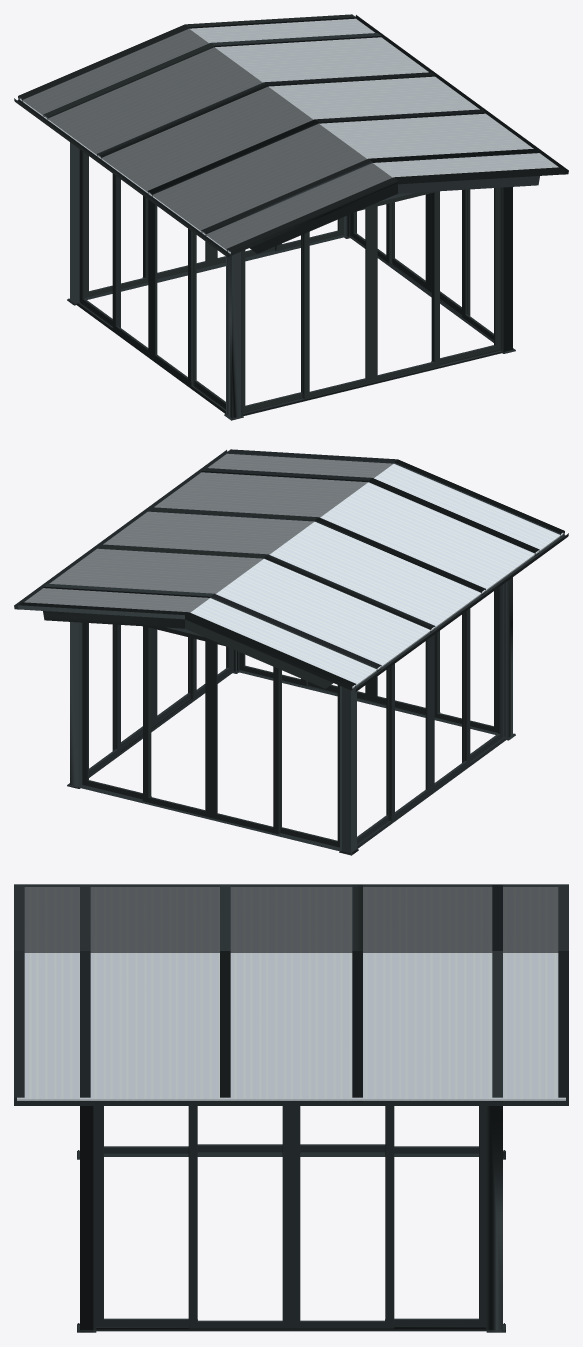
The picture shows the model from 3 angles, top to bottom: view 1: azimuth 30°, elevation 25°; view 2: azimuth 150°, elevation 25°; view 3: azimuth 270°, elevation 25°; orthographic projection. The views are drawn at different scales.
Visible parts, largest first — view 1: priximbattable_net_abris_de_jardin_640010_jacuzzi_poly, folha2_3, folha3_3, folha3_4, folha4_3, folha2_4, folha1_4, folha1_3, folha4, folha1_2, folha2_2, folha4_4 (+3 smaller); view 2: priximbattable_net_abris_de_jardin_640010_jacuzzi_poly, folha3, folha2, folha2_4, folha1, folha3_4, folha4_4, folha1_3, folha4, folha3_2, folha4_2, folha1_4 (+3 smaller); view 3: priximbattable_net_abris_de_jardin_640010_jacuzzi_poly, folha2_2, folha3_2, folha1_2, folha4_2, folha2_4, folha3_4, folha1_4, folha4_4.
Boxes of the visible parts, x1,y1,x2,y2 form: priximbattable_net_abris_de_jardin_640010_jacuzzi_poly: (14,14,568,420); folha2_3: (302,205,372,399); folha3_3: (372,191,440,382); folha3_4: (151,202,193,386); folha4_3: (431,187,499,364); folha2_4: (112,173,151,357); folha1_4: (79,149,120,327); folha1_3: (242,234,302,412); folha4: (85,153,148,297); folha1_2: (462,189,493,339); folha2_2: (429,189,470,315); folha4_4: (193,233,225,408); priximbattable_net_abris_de_jardin_640010_jacuzzi_poly: (14,449,568,855); folha3: (210,640,280,834); folha2: (142,626,210,817); folha2_4: (389,637,431,821); folha1: (82,622,151,799); folha3_4: (431,608,470,792); folha4_4: (462,584,503,762); folha1_3: (434,588,497,732); folha4: (280,669,339,847); folha3_2: (112,624,153,750); folha4_2: (89,624,120,774); folha1_4: (357,668,389,843); priximbattable_net_abris_de_jardin_640010_jacuzzi_poly: (14,884,568,1332); folha2_2: (188,1106,291,1328); folha3_2: (291,1106,394,1328); folha1_2: (96,1106,197,1326); folha4_2: (385,1106,485,1326); folha2_4: (300,1144,385,1152); folha3_4: (197,1144,282,1152); folha1_4: (385,1146,478,1153); folha4_4: (104,1146,197,1153).
Bounding box in the file's own units: 389 × 243 × 420.
Materials: 1 (1 with a texture image).
